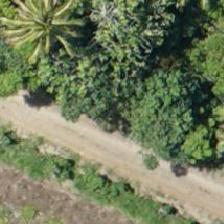coconut_tree: (0, 0, 79, 71)
